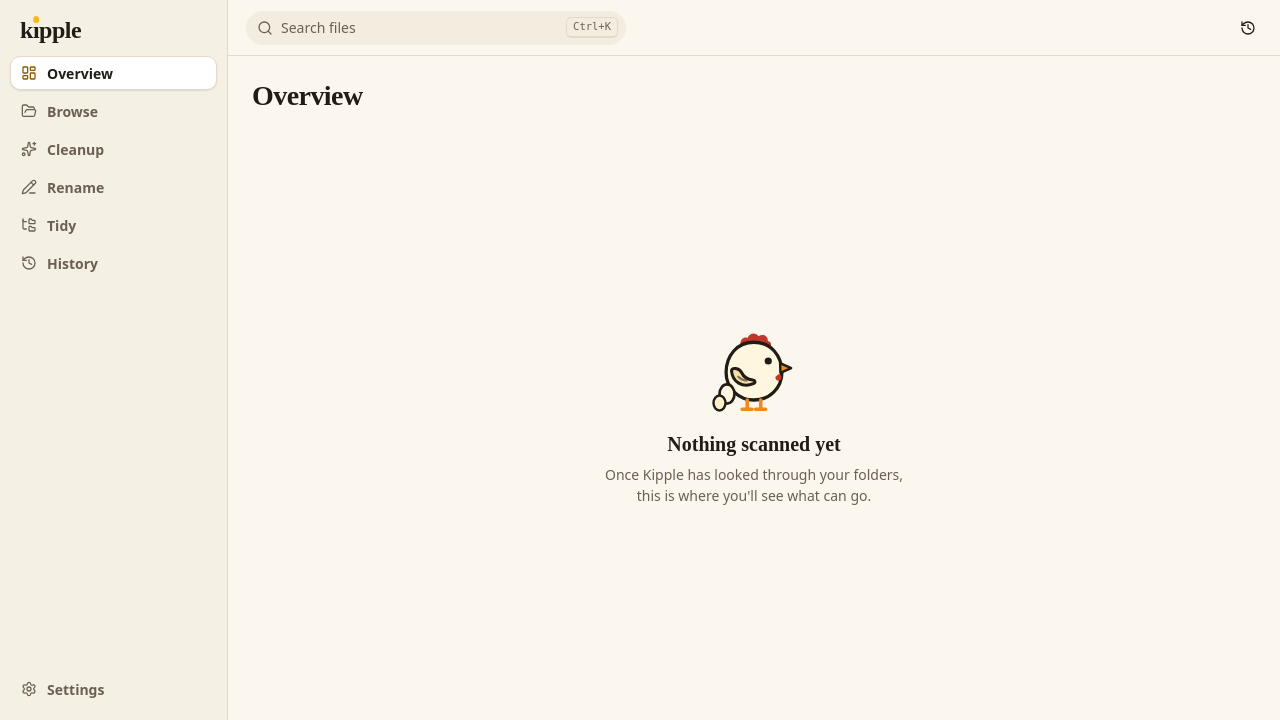
App shell › switches screens from the sidebar, with the hen in the empty state
This screenshot has width=1280, height=720.
Click the button "Cleanup": coordinates (114, 149) [10,132,217,166]
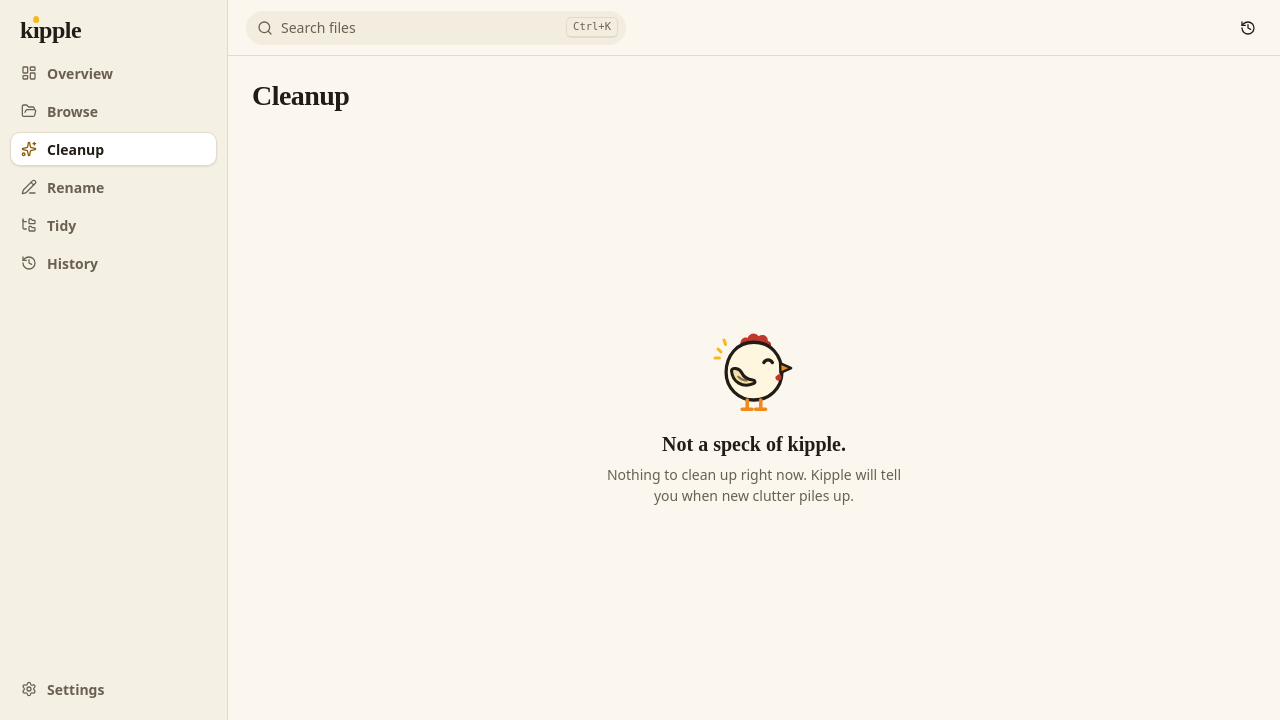
Expected: the heading "Cleanup" is shown, [252,80,349,111]
Expected: the heading "Not a speck of kipple." is shown, [662,430,846,458]
